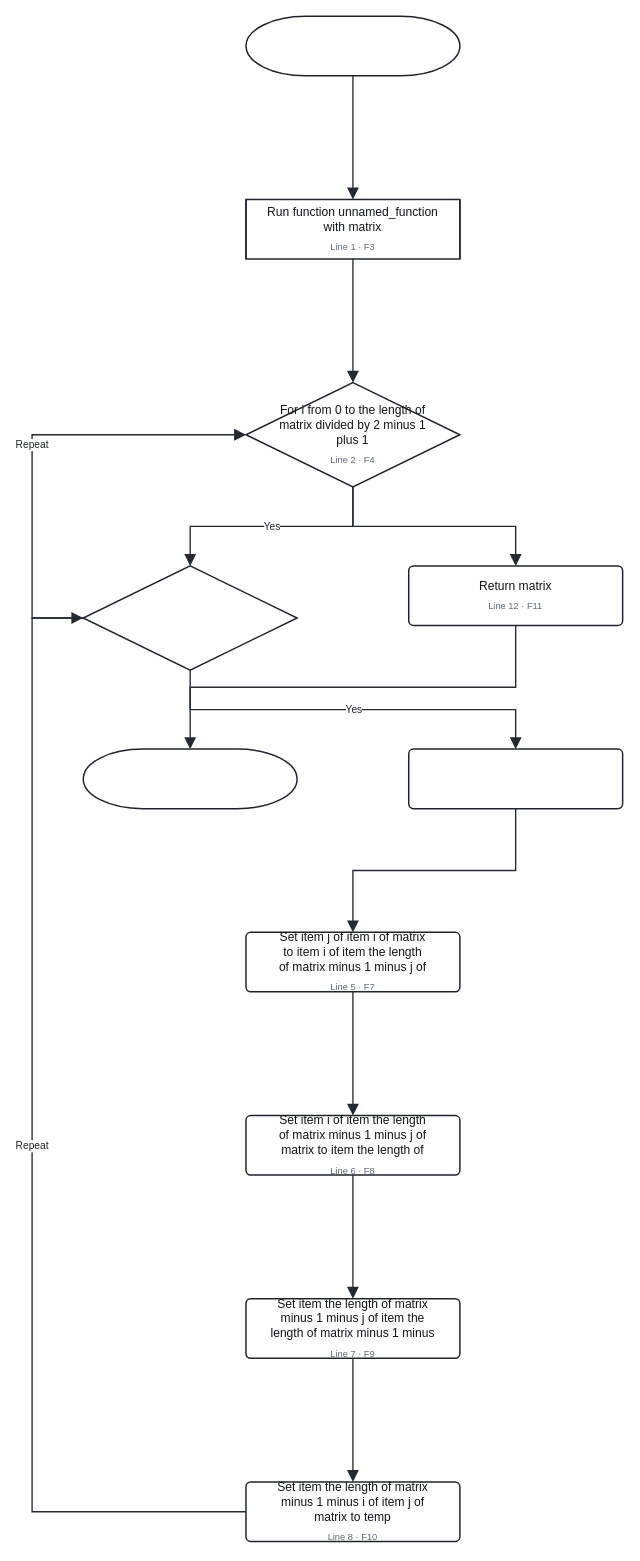
Some shapes in this 640 by 1561 pixel diagram are drawn without their labels. The centre of each missing label's shape, as x and y in pixels:
End Line 1 · F2: point (189, 778)
For j from i to the length of matrix minus 1 minus i minus 1 plus 1 Line 3 · F5: point (189, 617)
Set temp to item j of item i of matrix Line 4 · F6: point (515, 778)
Start Line 1 · F1: point (352, 45)
